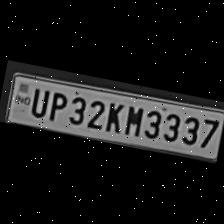2: (84, 94, 107, 132)
3: (64, 91, 88, 127), (140, 106, 163, 142), (159, 109, 182, 145), (178, 111, 200, 146)
7: (197, 115, 221, 151)
K: (101, 98, 125, 135)
M: (120, 102, 144, 138)
P: (44, 86, 68, 124)
U: (25, 84, 50, 119)
